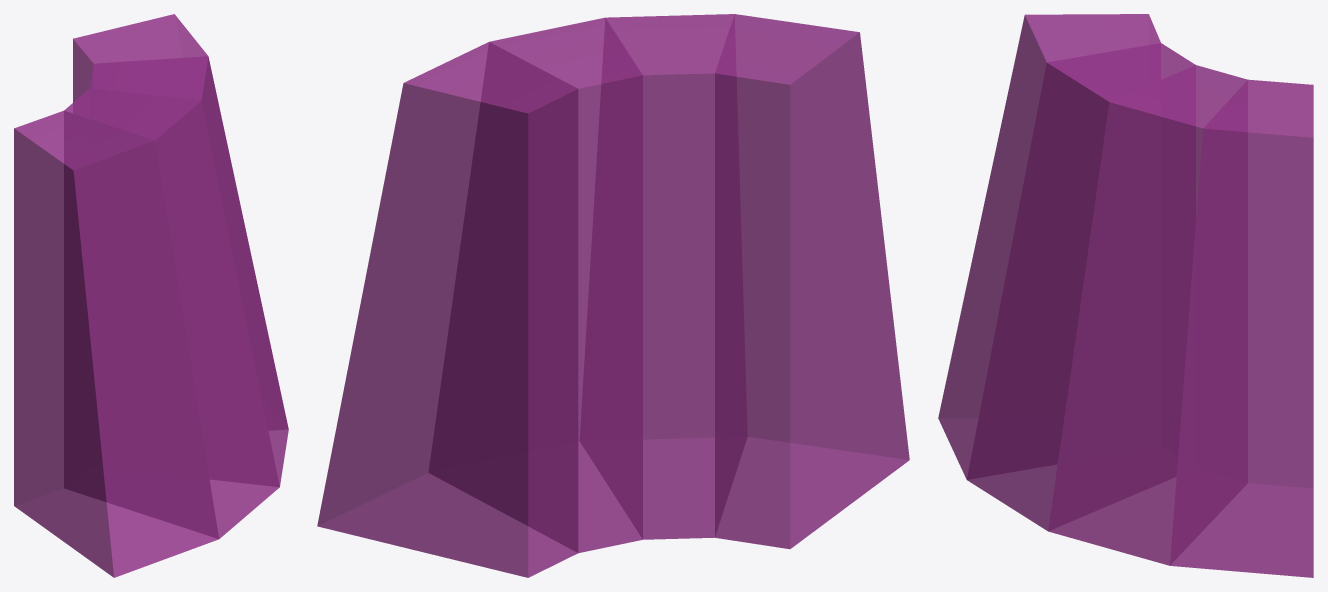
File: SM_Bld_Wall_Fort_Ground_Round_01_Collision.fbx
3 renders of one model, left to right at view 1: azimuth 30°, elevation 25°; view 2: azimuth 150°, elevation 25°; view 3: azimuth 270°, elevation 25°, orthographic. The views are drawn at different scales.
Parts seen in each view (by area): view 1: SM_Bld_Wall_Fort_Ground_Round_01_Collision; view 2: SM_Bld_Wall_Fort_Ground_Round_01_Collision; view 3: SM_Bld_Wall_Fort_Ground_Round_01_Collision.
Part boxes in pixels (x1=…): SM_Bld_Wall_Fort_Ground_Round_01_Collision: x1=14, y1=14, x2=288, y2=577; SM_Bld_Wall_Fort_Ground_Round_01_Collision: x1=317, y1=14, x2=909, y2=577; SM_Bld_Wall_Fort_Ground_Round_01_Collision: x1=938, y1=14, x2=1313, y2=577.
Bounding box in the file's own units: 516 × 605 × 510.
